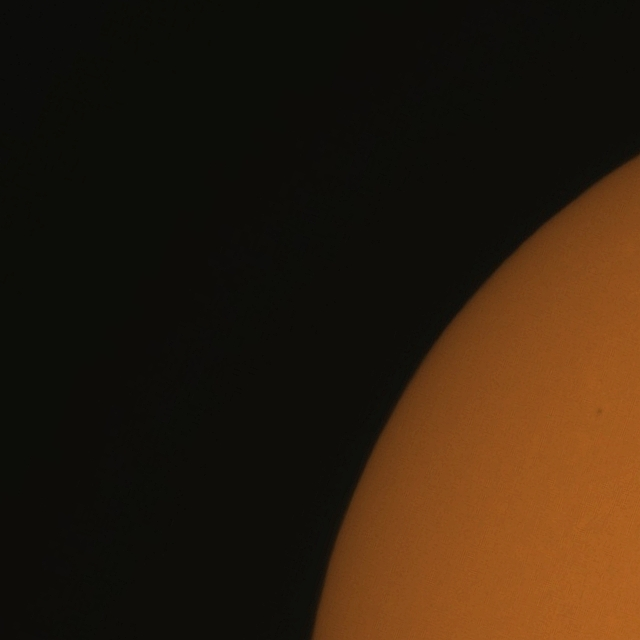sunspot: (595, 406, 604, 420)
